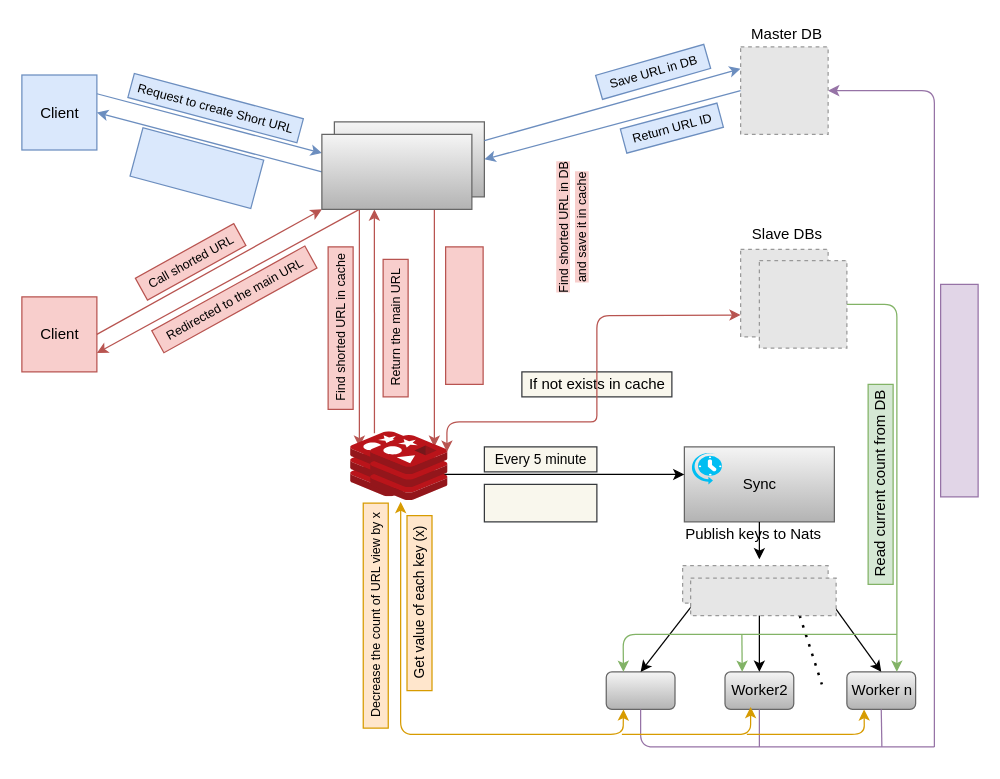
Image size: 1000x779. Some labels were removed from this diagram. Grey dashed boxes stand in for pictures. Each missing label, with the centre of its shape:
Increase the count of URL view by 1: [463,315]
Return shorted URL (shorted URL is base36 URL ID): [196,167]
Send keys to the sync app: [540,502]
Server: [396,171]
Worker1: [640,690]
Write new count in database (Previous count + x ): [958,390]
